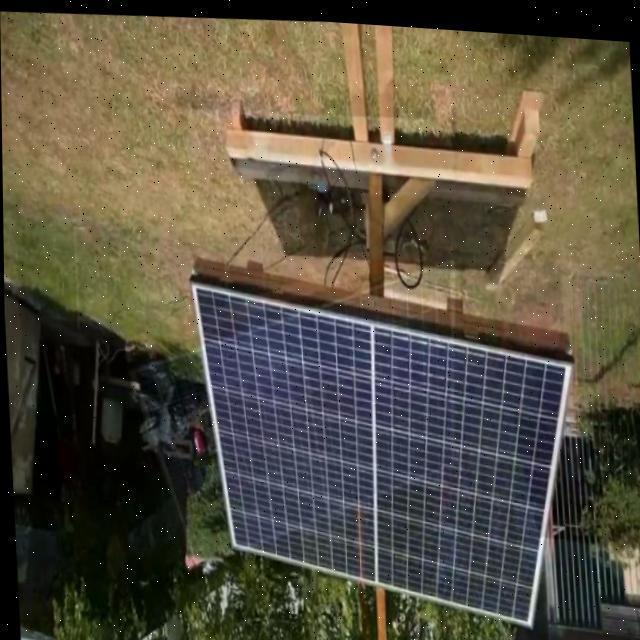Normal Solar Panel: (192, 266, 584, 631)
